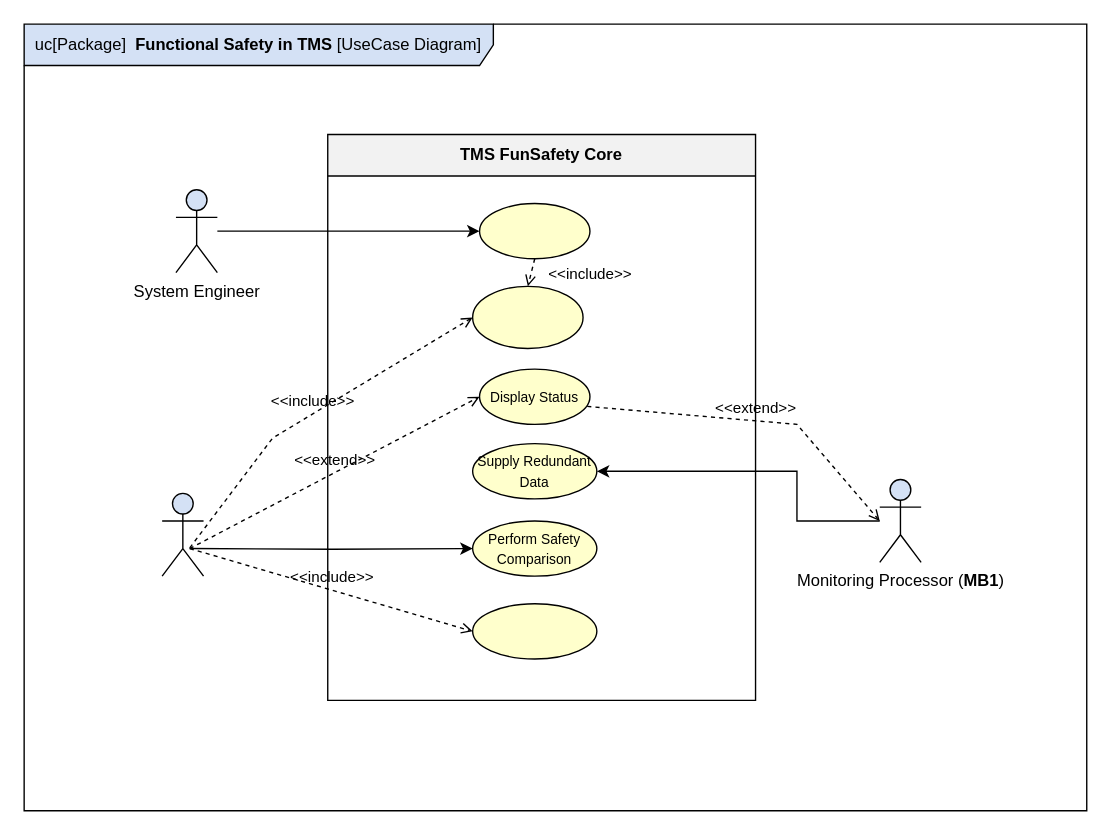
The diagram is 1111 pixels wide and 835 high, and some of its shapes have lost their labels. Each missing label, with the centre of its shape:
"Acquire Local Temperature" belongs at point 527,316.
"Initiate Safe Shutdown" belongs at point 534,630.
"Log Data via UART" belongs at point 534,230.
"Primary Safety Controller( MB0 )" belongs at point 182,534.
